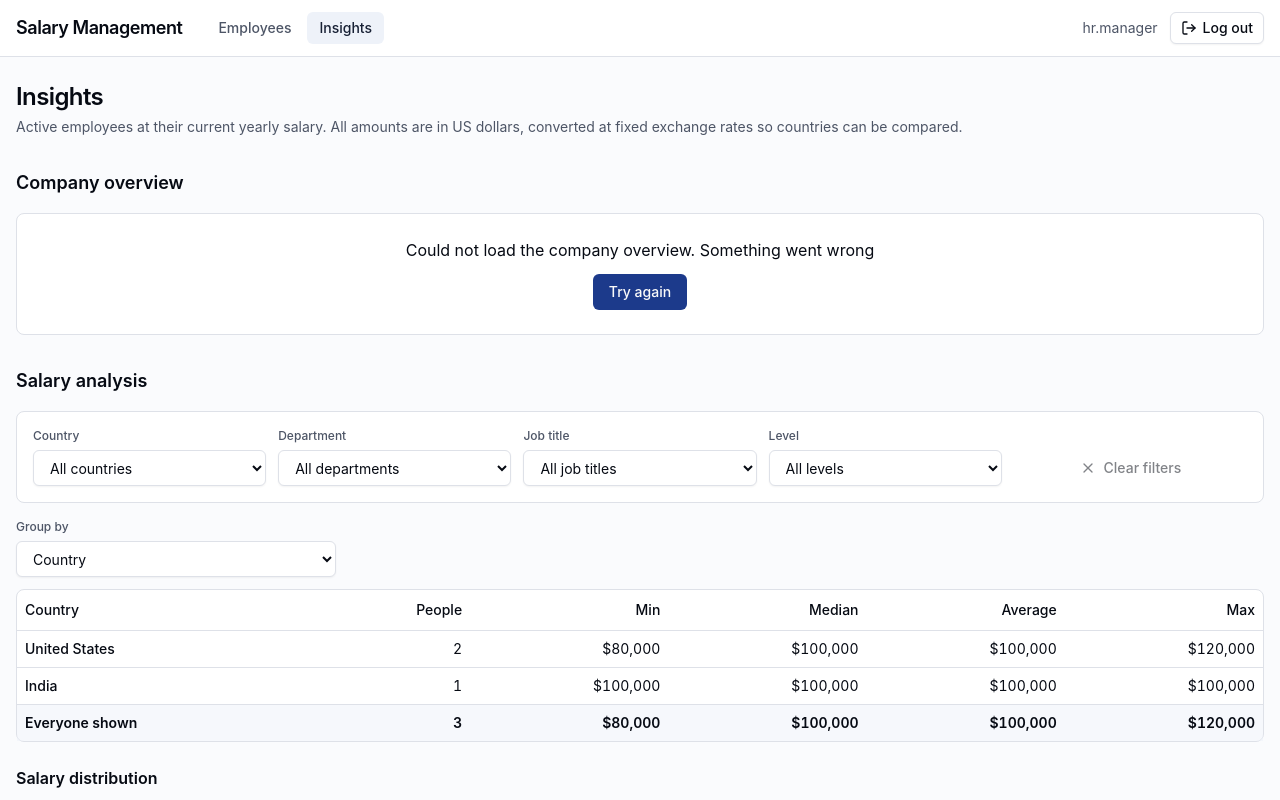
it: insights page › company overview › explains a failure and tries again on request, without disturbing the rest of the page
The image size is (1280, 800).
Expected: the message shows "Could not load the company overview. Something went wrong", [16, 213, 1264, 335]
Expected: the text "Everyone shown" is shown, [17, 704, 322, 740]
Click the button "Try again".
click(640, 292)  # box [593, 274, 687, 310]
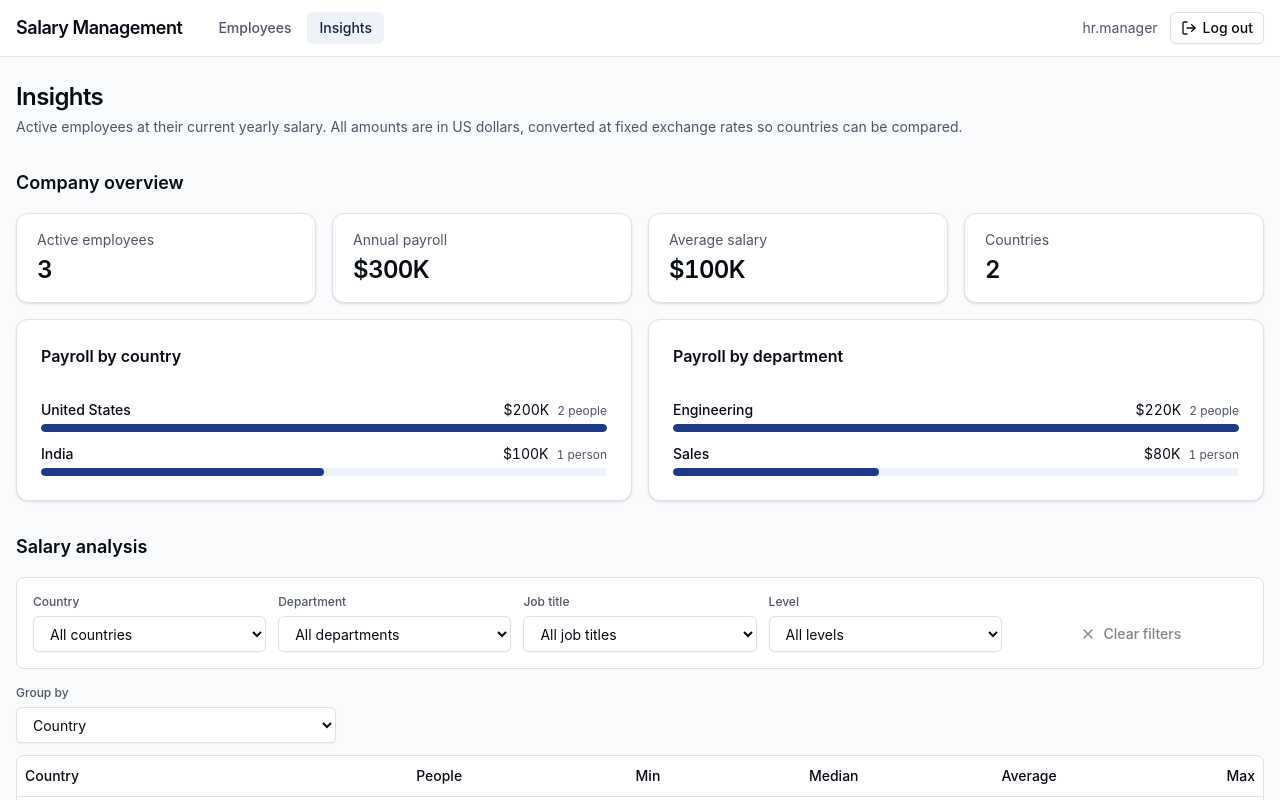
Now the text "$300K" is shown, box [353, 255, 429, 284]
Now the message "Could not load the company overview. Something went wrong Try again" is gone
